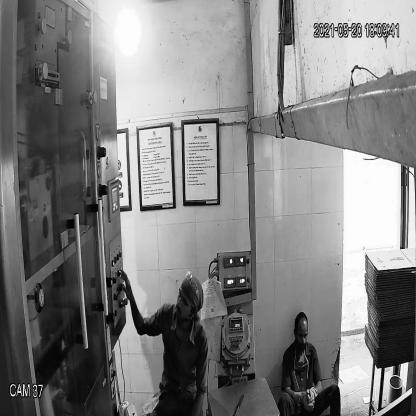no_goggles: (175, 290, 196, 313), (294, 326, 308, 342)
